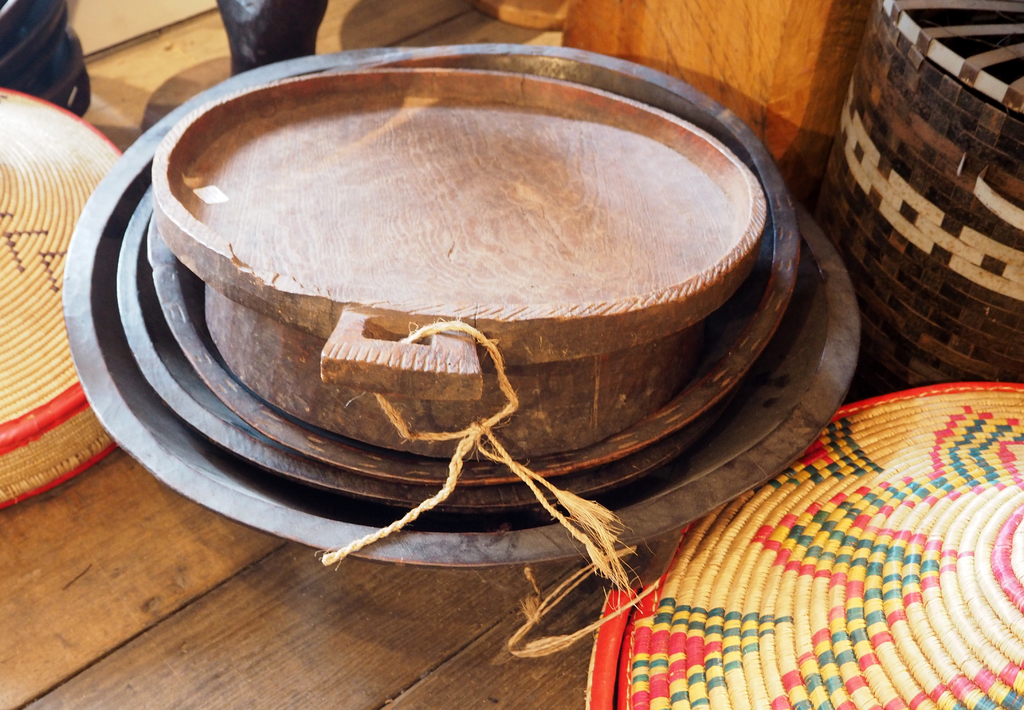person: (0, 0, 93, 118)
